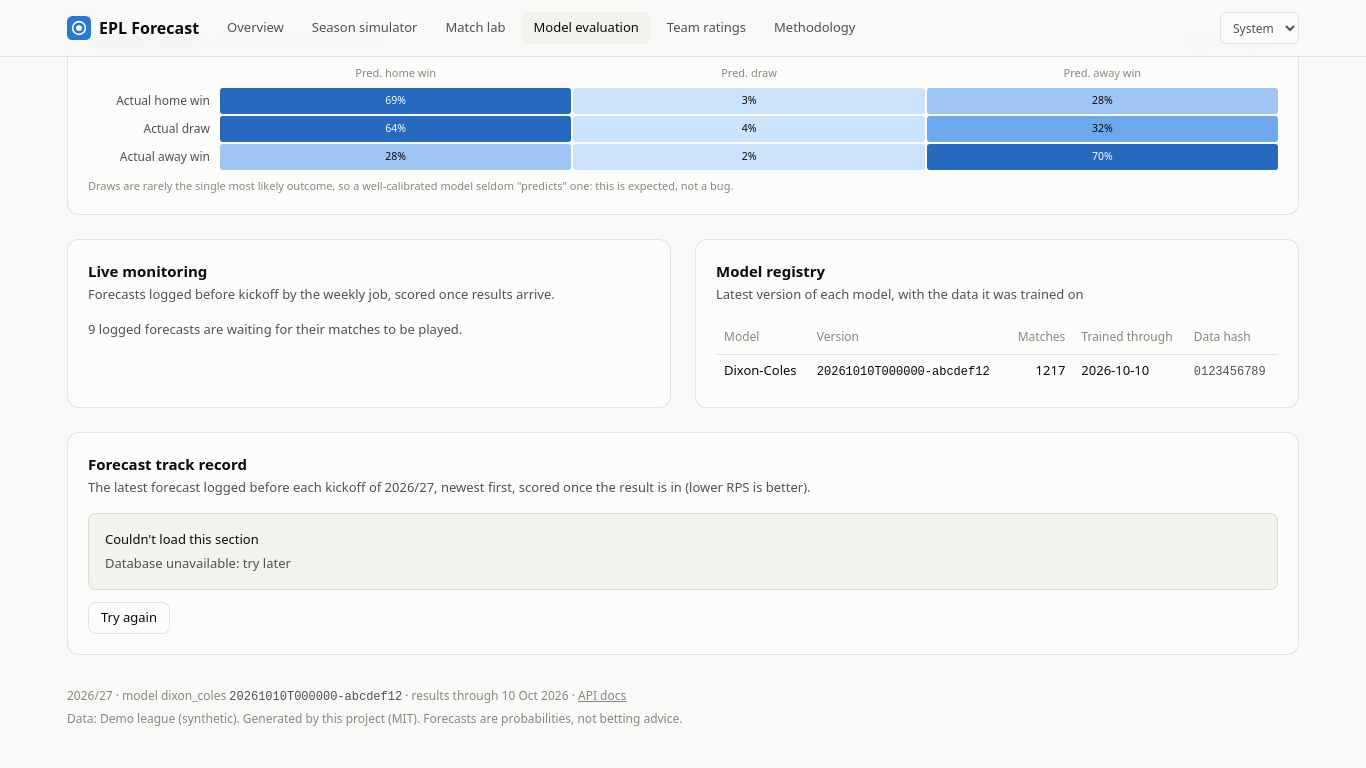
forecast track record › shows a failure inside the card and recovers on retry
(page scrolled)
Expected: the message shows "Database unavailable: try later", x1=105 y1=554 x2=291 y2=572
Step 1. Click the button "Try again" → (129,618), box x1=88 y1=602 x2=170 y2=634
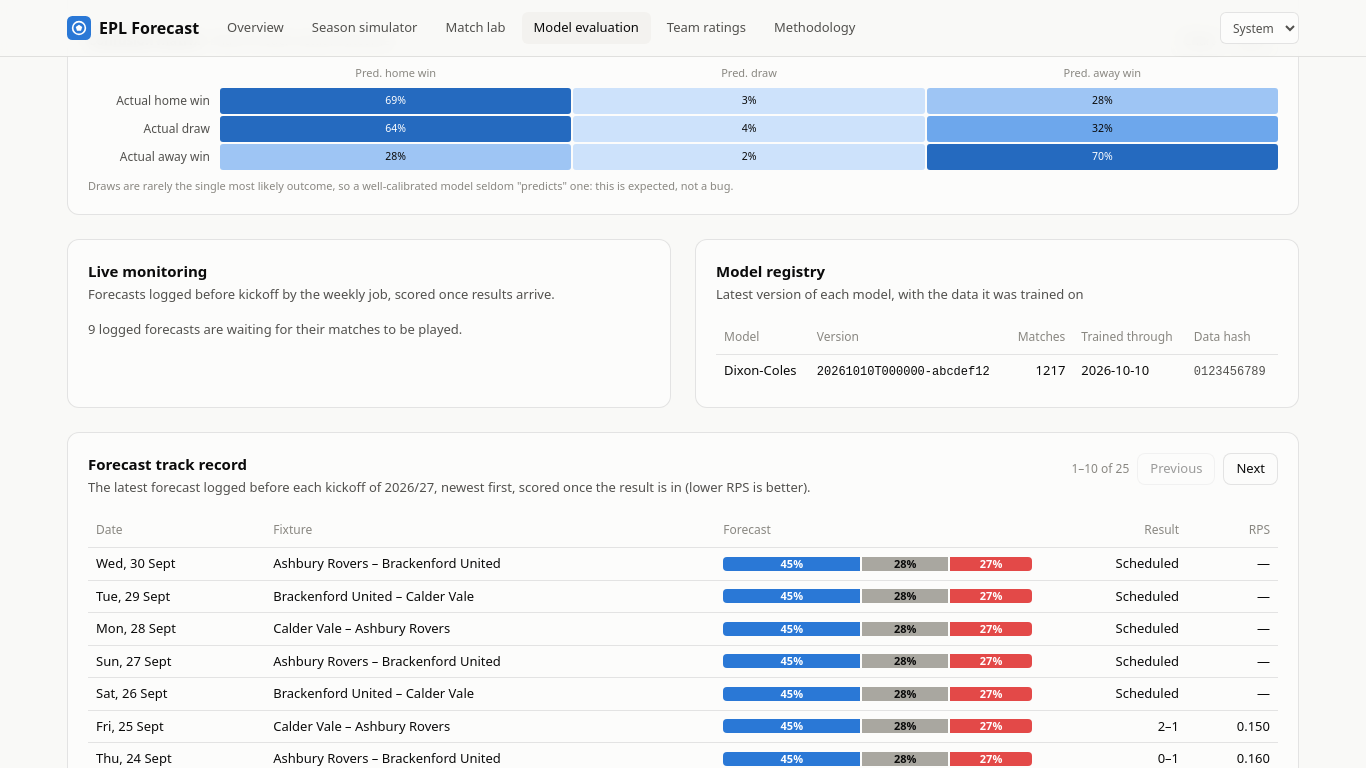
Expected: the text "1–10 of 25" is shown, x1=1071 y1=460 x2=1129 y2=478
